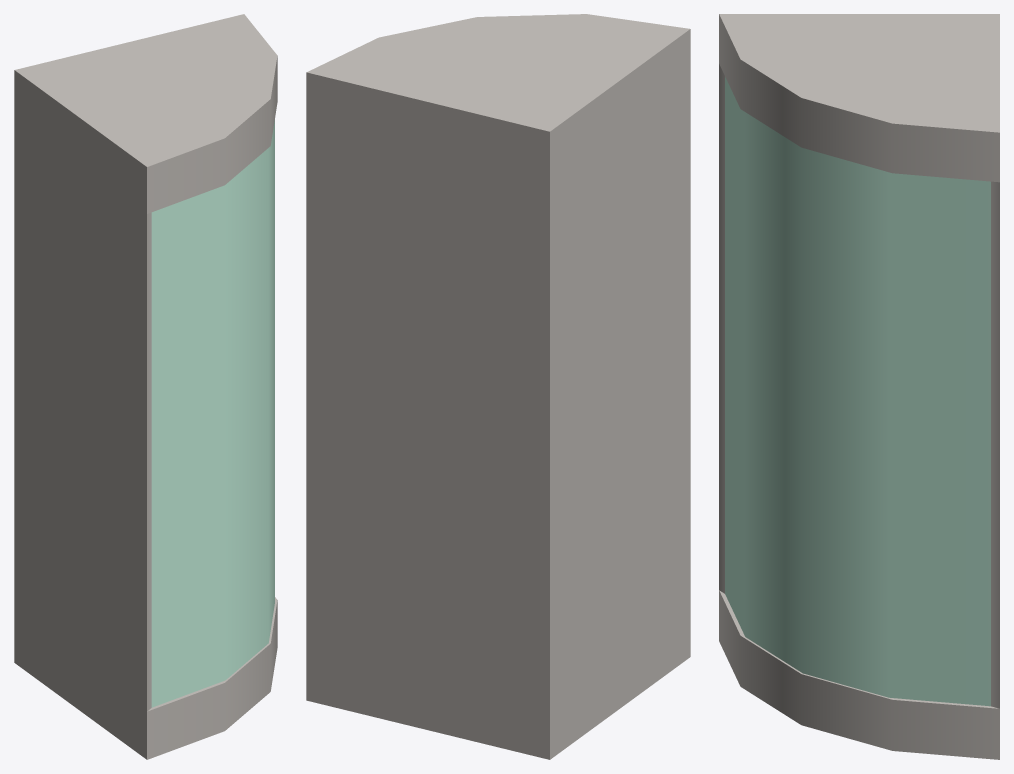
File: Shower.fbx
3 views of the same model, side by side, from view 1: azimuth 30°, elevation 25°; view 2: azimuth 150°, elevation 25°; view 3: azimuth 270°, elevation 25° (orthographic). The views are drawn at different scales.
Parts seen in each view (by area): view 1: Shower; view 2: Shower; view 3: Shower.
Part boxes in pixels (x1,y1,x2,y2): Shower: (14, 14, 277, 759); Shower: (306, 14, 690, 759); Shower: (719, 14, 999, 759).
Size of the model in its own units: 100 by 247 by 100.
